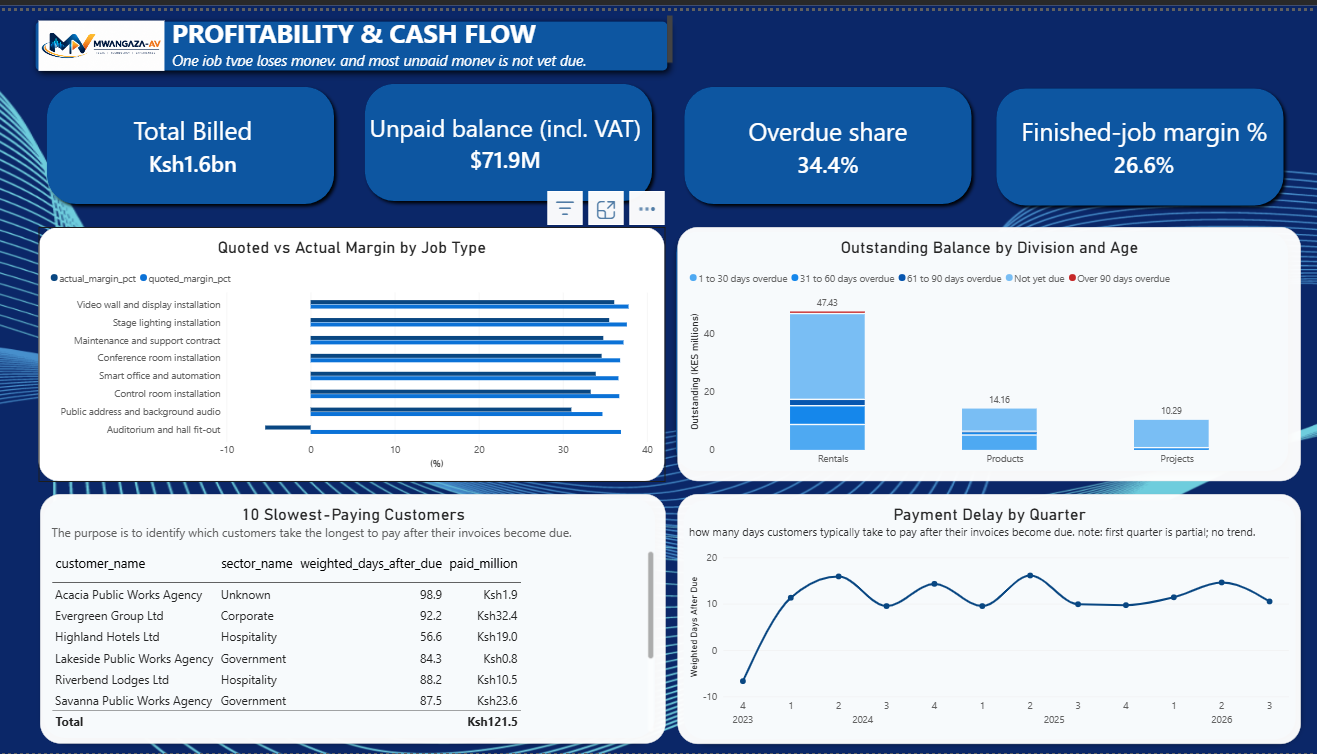

What the dashboard file says about the page in this screenshot:
{"tool":"powerbi","page":{"name":"profitability and cash","canvas":[1920,1080],"ordinal":0},"visuals":[{"type":"group","id":"g1","title":"Group 1","box":[39,0,1864.5,1074.7],"z":0},{"type":"shape","box":[49.5,305.8,921.8,379.2],"z":0,"group":"g1"},{"type":"cardVisual","fields":{"Data":["00_measures.Total Billed"]},"box":[59.9,99.8,449.6,192.9],"z":1000},{"type":"shape","box":[1443.2,102,438,190.4],"z":1000,"group":"g1"},{"type":"shape","box":[987.8,100.4,438,190.4],"z":2000,"group":"g1"},{"type":"clusteredBarChart","title":"Quoted vs Actual Margin by Job Type","fields":{"Category":["analysis q01_margin_by_job_type.job_type_name"],"Y":["Avg(analysis q01_margin_by_job_type.weighted_actual_margin_pct)","Avg(analysis q01_margin_by_job_type.avg_quoted_margin_pct)"]},"box":[59.9,315.2,911.1,369.8],"z":2000},{"type":"shape","box":[523.1,95.9,438,190.4],"z":3000,"group":"g1"},{"type":"columnChart","title":"Outstanding Balance by Division and Age","fields":{"Category":["analysis q03_ageing_of_unpaid_invoices.division_name"],"Series":["analysis q03_ageing_of_unpaid_invoices.ageing_bucket"],"Y":["Sum(analysis q03_ageing_of_unpaid_invoices.outstanding_million)"]},"box":[988.2,315.2,907.1,369.8],"z":3000},{"type":"shape","box":[60,100.4,438,190.4],"z":4000,"group":"g1"},{"type":"cardVisual","fields":{"Data":["00_measures.Overdue share"]},"box":[988.2,102.4,438.9,190.2],"z":4000},{"type":"cardVisual","fields":{"Data":["00_measures.Unpaid balance (incl. VAT)"]},"box":[515.6,95.9,446.9,192.9],"z":5000},{"type":"shape","box":[971.3,305.8,921.8,379.2],"z":5000,"group":"g1"},{"type":"cardVisual","fields":{"Data":["00_measures.Finished-job margin %"]},"box":[1443.1,102.4,450.9,190.2],"z":6000},{"type":"shape","box":[49.5,694,921.8,379.2],"z":6000,"group":"g1"},{"type":"shape","box":[981.8,695.5,921.8,379.2],"z":7000,"group":"g1"},{"type":"tableEx","title":"10 Slowest-Paying Customers","fields":{"Values":["analysis q04_slowest_payers.customer_name","analysis q04_slowest_payers.sector_name","analysis q04_slowest_payers.weighted_days_after_due","Sum(analysis q04_slowest_payers.paid_million)"]},"box":[60.1,702.7,910.7,363.7],"z":7000},{"type":"shape","box":[39,0,950.3,101.9],"z":8000,"group":"g1"},{"type":"lineChart","title":"Payment Delay by Quarter","fields":{"Category":["analysis q05_payment_speed_by_quarter.calendar_year","analysis q05_payment_speed_by_quarter.calendar_quarter"],"Y":["Sum(analysis q05_payment_speed_by_quarter.weighted_days_after_due)"]},"box":[989.3,702.7,907,364],"z":8000},{"type":"textbox","box":[253.3,7.5,728.4,73.4],"z":9000},{"type":"image","box":[59.8,6.8,183.6,88.4],"z":10000}]}

Visuals, with their boxes in screenshot pixels (x1, y1, x2, y2), scaled from the page's 1920x1080 canvas onto the 1317x754 screenshot:
"Group 1" group: (x1=27, y1=0, x2=1306, y2=750)
shape: (x1=34, y1=213, x2=666, y2=478)
cardVisual - 00_measures.Total Billed: (x1=41, y1=70, x2=349, y2=204)
shape: (x1=990, y1=71, x2=1290, y2=204)
shape: (x1=678, y1=70, x2=978, y2=203)
"Quoted vs Actual Margin by Job Type" clusteredBarChart: (x1=41, y1=220, x2=666, y2=478)
shape: (x1=359, y1=67, x2=659, y2=200)
"Outstanding Balance by Division and Age" columnChart: (x1=678, y1=220, x2=1300, y2=478)
shape: (x1=41, y1=70, x2=342, y2=203)
cardVisual - 00_measures.Overdue share: (x1=678, y1=71, x2=979, y2=204)
cardVisual - 00_measures.Unpaid balance (incl. VAT): (x1=354, y1=67, x2=660, y2=202)
shape: (x1=666, y1=213, x2=1299, y2=478)
cardVisual - 00_measures.Finished-job margin %: (x1=990, y1=71, x2=1299, y2=204)
shape: (x1=34, y1=485, x2=666, y2=749)
shape: (x1=673, y1=486, x2=1306, y2=750)
"10 Slowest-Paying Customers" tableEx: (x1=41, y1=491, x2=666, y2=745)
shape: (x1=27, y1=0, x2=679, y2=71)
"Payment Delay by Quarter" lineChart: (x1=679, y1=491, x2=1301, y2=745)
textbox: (x1=174, y1=5, x2=673, y2=56)
image: (x1=41, y1=5, x2=167, y2=66)
